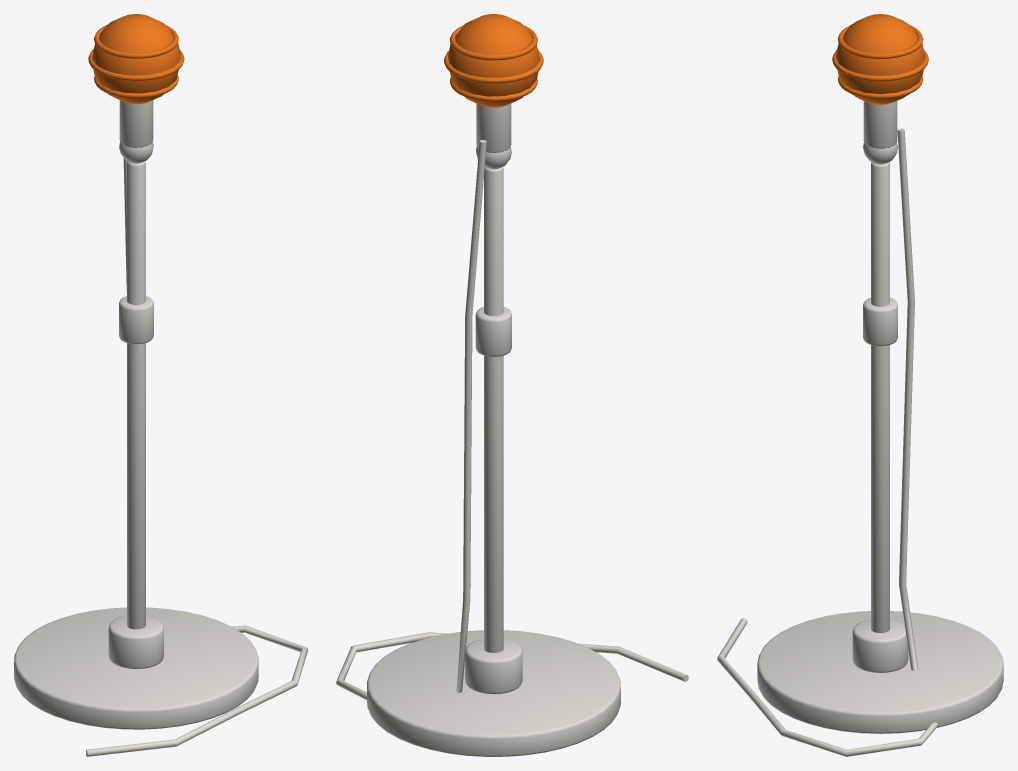
File: open-mic.glb
The picture shows the model from 3 angles, left to right: view 1: azimuth 30°, elevation 25°; view 2: azimuth 150°, elevation 25°; view 3: azimuth 270°, elevation 25°; orthographic projection. The views are drawn at different scales.
Parts seen in each view (by area): view 1: round_weighted_base, upright, glazed_grille_ball, trailing_cable, base_neck, microphone_body, height_collar, grille_ridge_2, grille_ridge_1, swivel_joint, grille_ridge_0; view 2: round_weighted_base, upright, trailing_cable, glazed_grille_ball, base_neck, height_collar, microphone_body, grille_ridge_2, grille_ridge_1; view 3: round_weighted_base, upright, trailing_cable, glazed_grille_ball, base_neck, microphone_body, height_collar, grille_ridge_2, grille_ridge_1, swivel_joint, grille_ridge_0.
Boxes of the visible parts, <box> form: round_weighted_base: <box>14,607,258,729</box>; upright: <box>127,161,145,629</box>; glazed_grille_ball: <box>92,14,180,104</box>; trailing_cable: <box>86,158,307,756</box>; base_neck: <box>108,616,163,668</box>; microphone_body: <box>119,100,153,147</box>; height_collar: <box>119,296,153,344</box>; grille_ridge_2: <box>94,25,178,58</box>; grille_ridge_1: <box>88,49,184,80</box>; swivel_joint: <box>119,141,153,163</box>; grille_ridge_0: <box>94,75,178,98</box>; round_weighted_base: <box>367,630,620,756</box>; upright: <box>484,167,503,652</box>; trailing_cable: <box>336,139,688,699</box>; glazed_grille_ball: <box>448,14,539,107</box>; base_neck: <box>465,639,522,694</box>; height_collar: <box>475,307,511,356</box>; microphone_body: <box>476,103,511,152</box>; grille_ridge_2: <box>450,25,537,60</box>; grille_ridge_1: <box>444,50,543,83</box>; round_weighted_base: <box>757,611,1003,733</box>; upright: <box>871,162,889,632</box>; trailing_cable: <box>717,128,937,756</box>; glazed_grille_ball: <box>835,14,925,104</box>; base_neck: <box>852,619,908,672</box>; microphone_body: <box>863,101,897,148</box>; height_collar: <box>863,298,897,346</box>; grille_ridge_2: <box>838,25,923,58</box>; grille_ridge_1: <box>832,50,928,81</box>; swivel_joint: <box>863,142,897,164</box>; grille_ridge_0: <box>838,76,923,98</box>.
Size of the model in its own units: 0.2159 by 0.5 by 0.1953.
